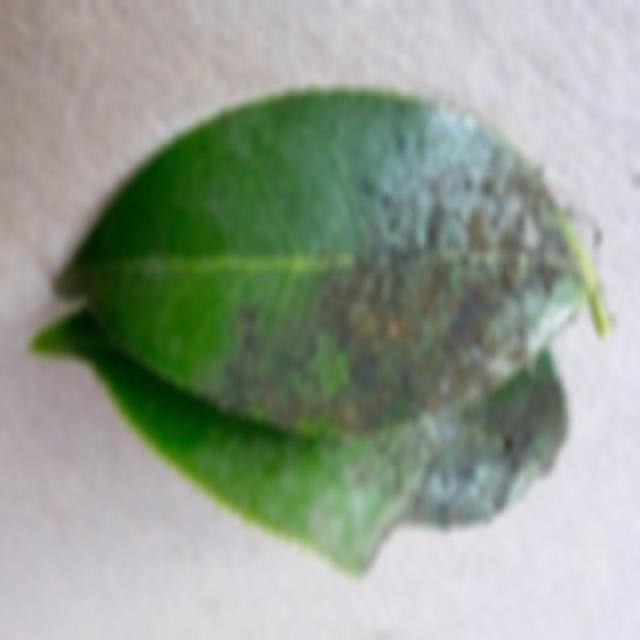Sooty Mold: (32, 79, 611, 578)
